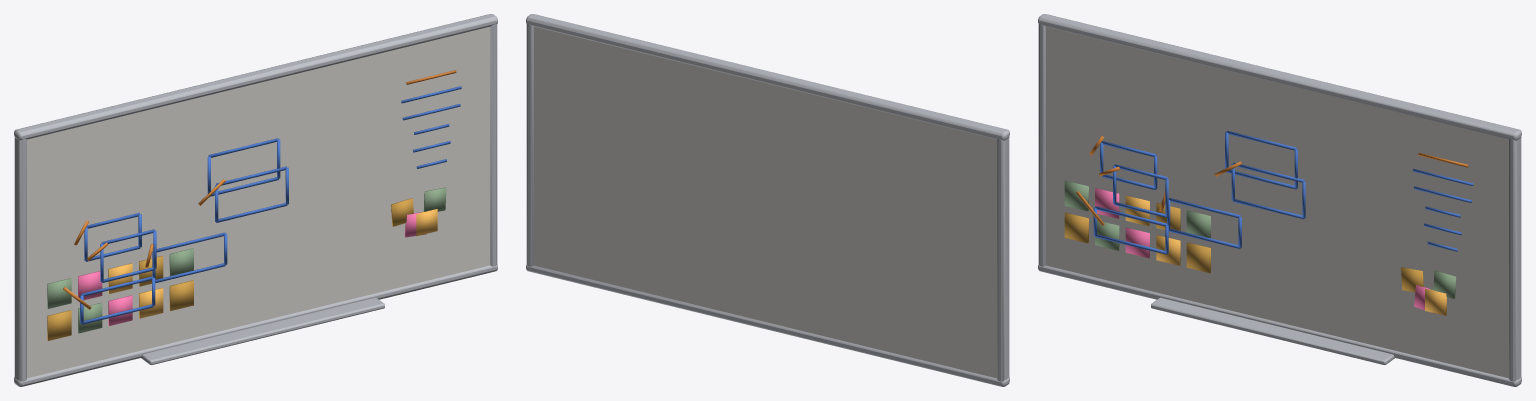
File: whiteboard_wall_l2.glb
3 views of the same model, side by side, from view 1: azimuth 30°, elevation 25°; view 2: azimuth 150°, elevation 25°; view 3: azimuth 330°, elevation 25° (orthographic).
Visible parts, largest first — view 1: whiteboard_wall_l2; view 2: whiteboard_wall_l2; view 3: whiteboard_wall_l2.
Part boxes in pixels (<box>): whiteboard_wall_l2: <box>14,14,497,386</box>; whiteboard_wall_l2: <box>526,14,1009,386</box>; whiteboard_wall_l2: <box>1038,14,1521,386</box>.
Size of the model in its own units: 2.04 by 1.04 by 0.115.
